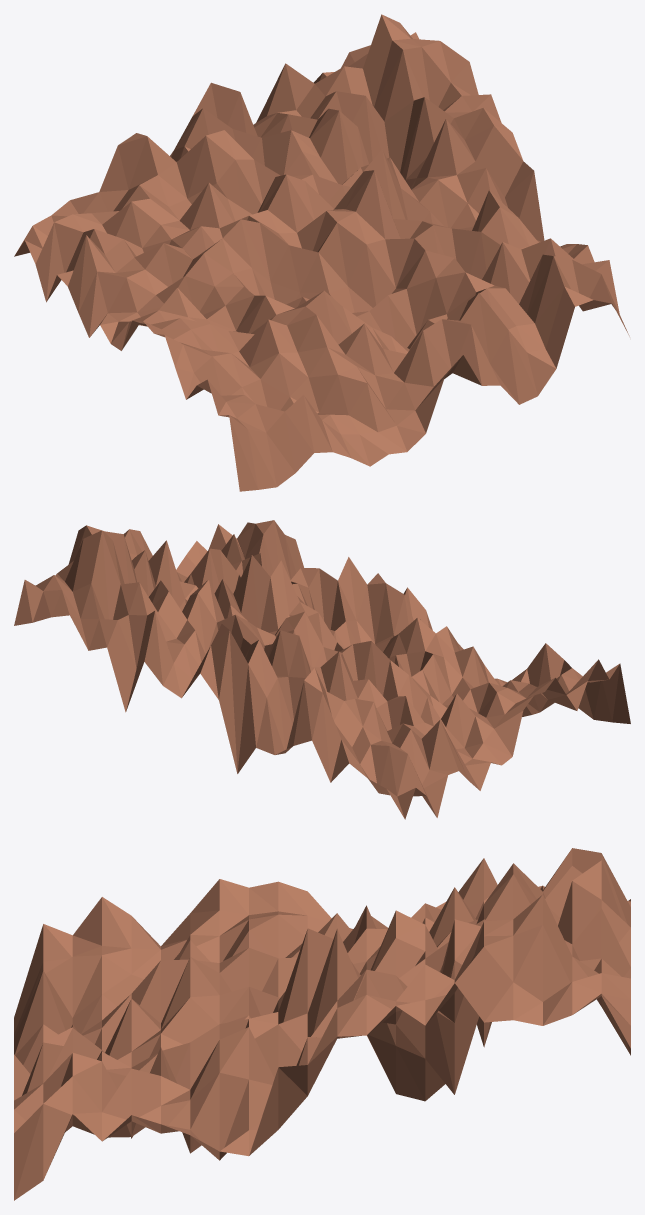
Rendered from Mountain.001.fbx.
3 renders of one model, top to bottom at view 1: azimuth 30°, elevation 25°; view 2: azimuth 150°, elevation 25°; view 3: azimuth 270°, elevation 25°, orthographic. The views are drawn at different scales.
Visible parts, largest first — view 1: Mountain.001; view 2: Mountain.001; view 3: Mountain.001.
Part boxes in pixels (bbox=[...]): Mountain.001: bbox=[14, 14, 629, 491]; Mountain.001: bbox=[14, 520, 630, 819]; Mountain.001: bbox=[14, 848, 630, 1200].
Bounding box in the file's own units: 43951 × 27990 × 43951.
